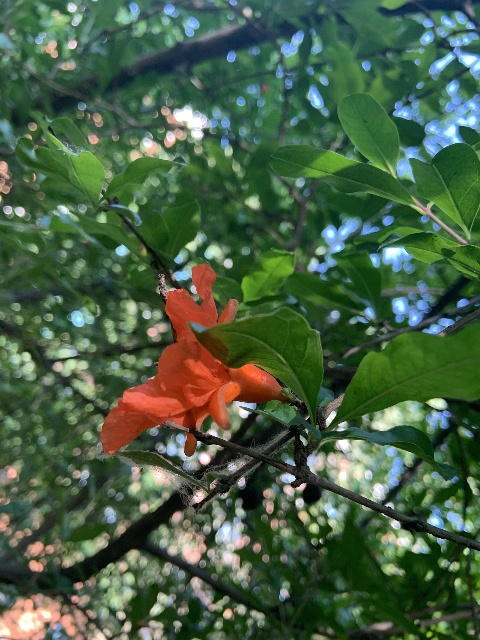flower: (101, 265, 284, 458)
